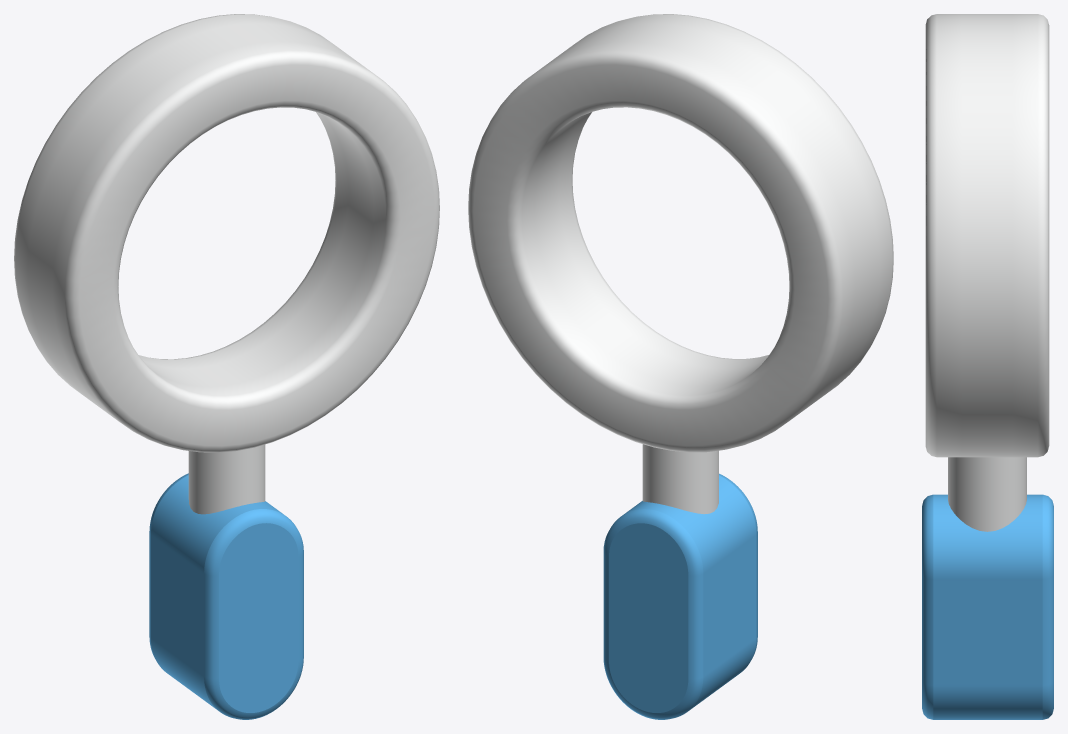
File: lens.FBX
3 views of the same model, side by side, from view 1: azimuth 30°, elevation 25°; view 2: azimuth 150°, elevation 25°; view 3: azimuth 270°, elevation 25° (orthographic). The views are drawn at different scales.
Parts seen in each view (by area): view 1: 放大镜; view 2: 放大镜; view 3: 放大镜.
Part boxes in pixels (x1,y1,x2,y2): 放大镜: (14,14,439,719); 放大镜: (468,14,893,719); 放大镜: (922,14,1053,719).
Size of the model in its own units: 0.197 by 0.333 by 0.0585.
